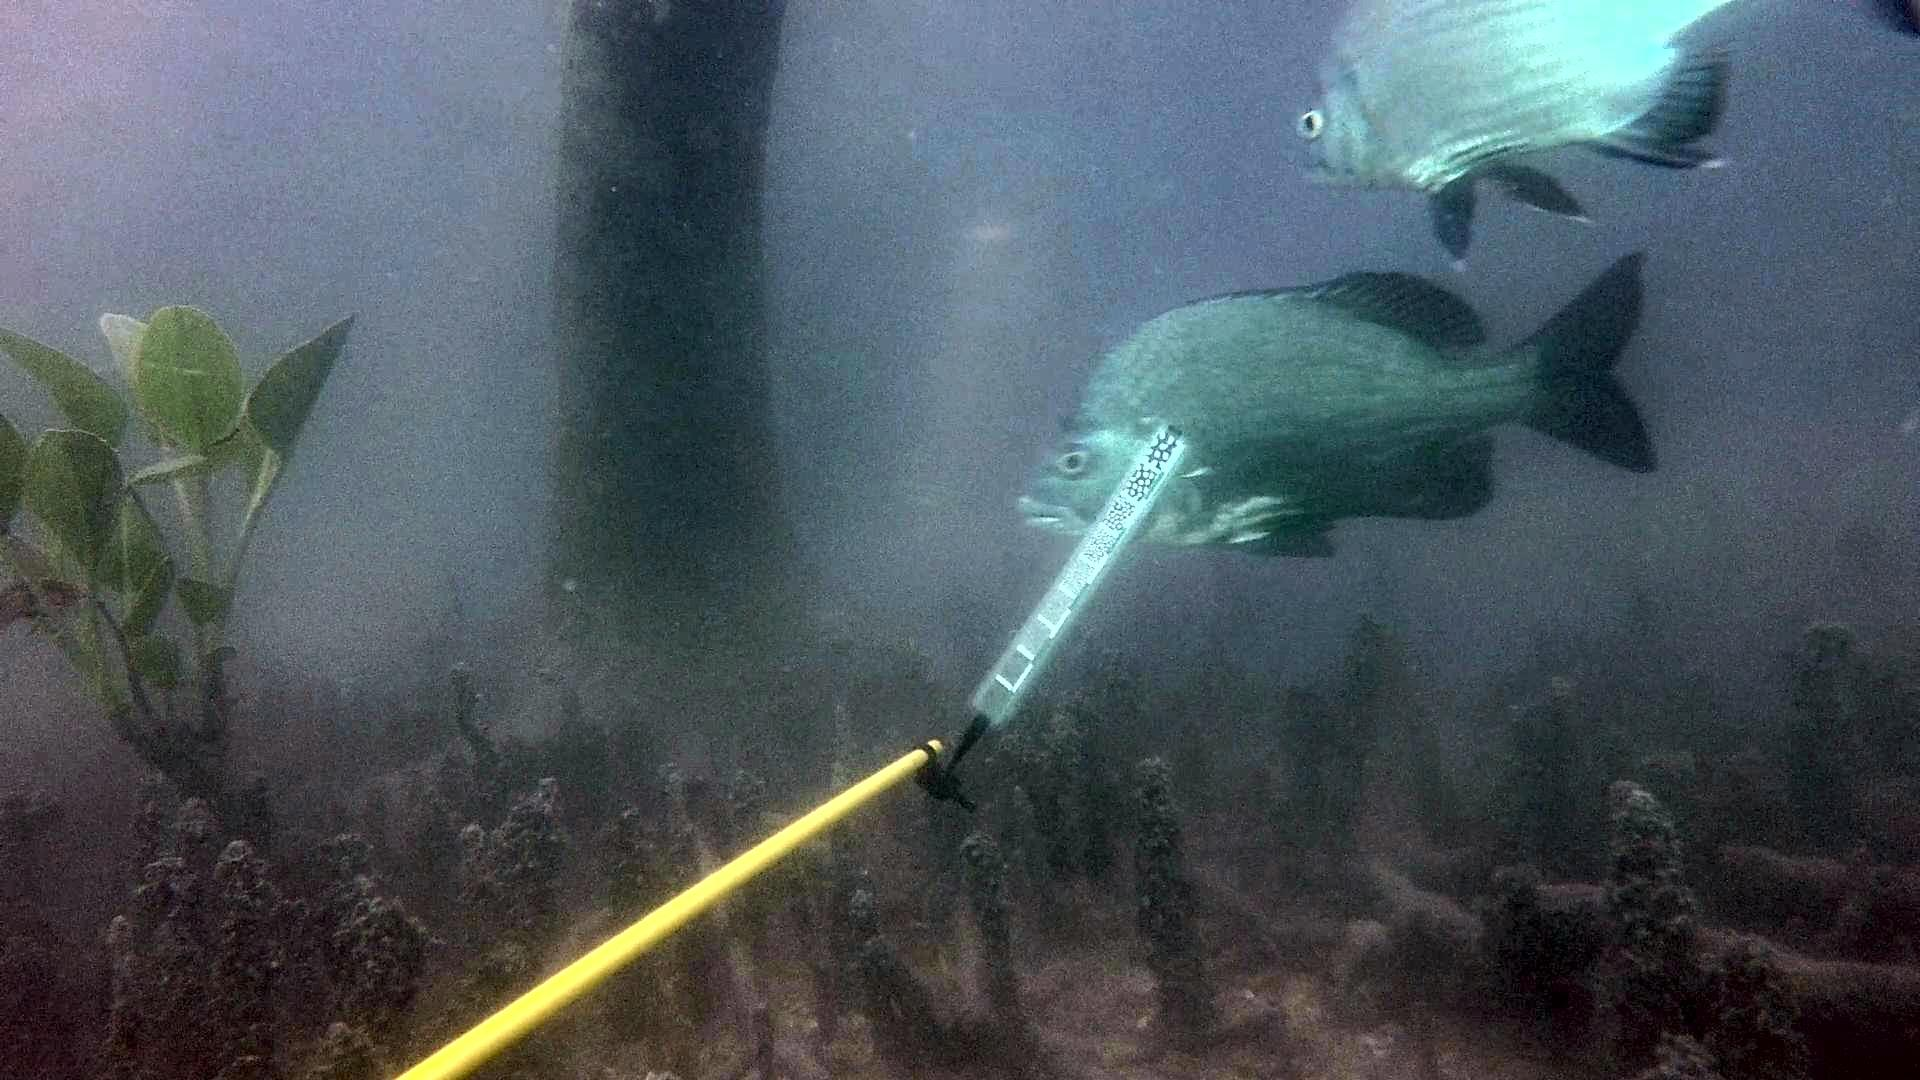acanthopagrus palmaris: (1008, 243, 1678, 569), (1285, 0, 1803, 277)
